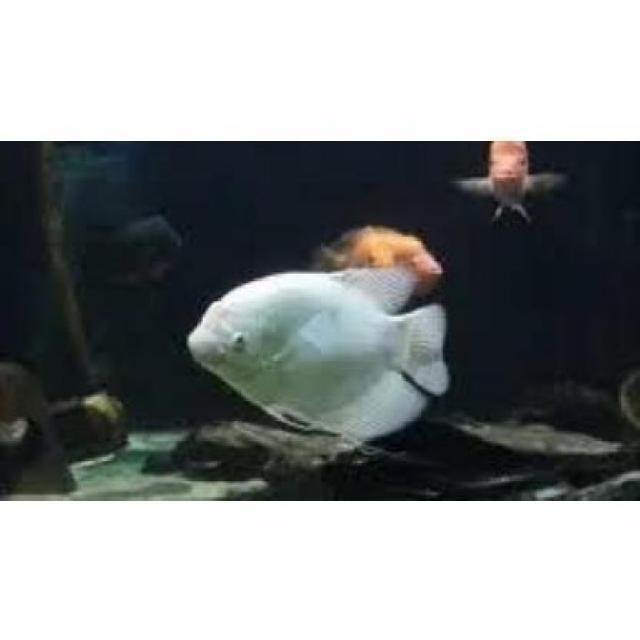gurame: (188, 268, 448, 440)
